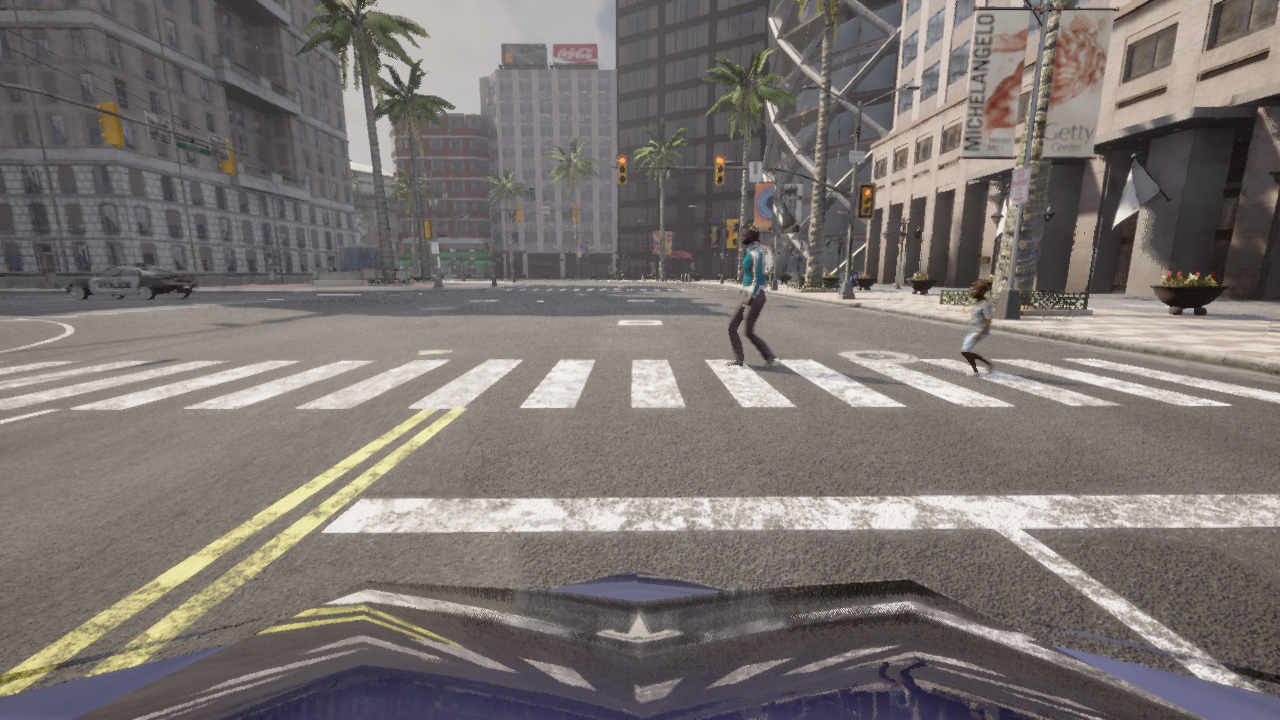cyclist: (0, 569, 1279, 719), (65, 264, 198, 300)
pedestrian: (723, 224, 776, 369), (960, 283, 995, 377)
